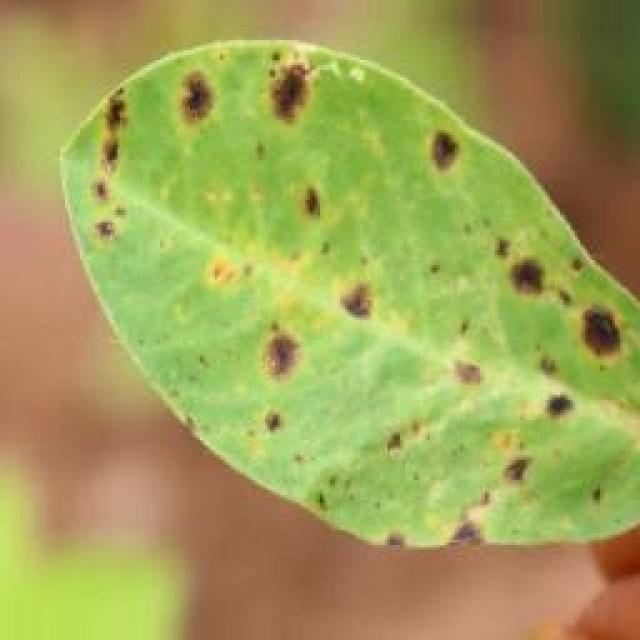Yellowish: (75, 42, 640, 565)
